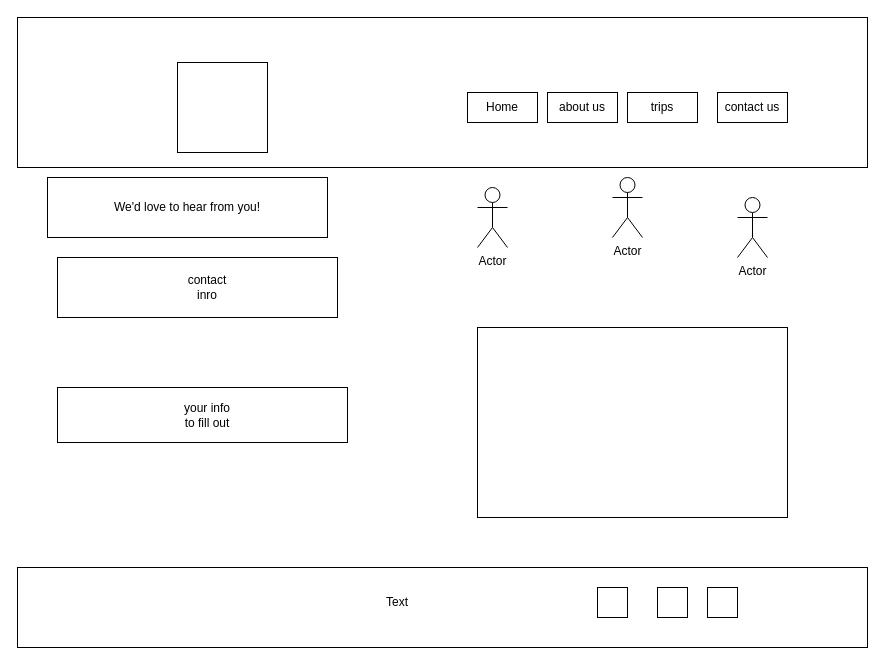
This 885x665 diagram has some shape labels left out. Each missing label, with the centre of its shape:
"Logo" belongs at (222,107).
"map" belongs at (632,422).
